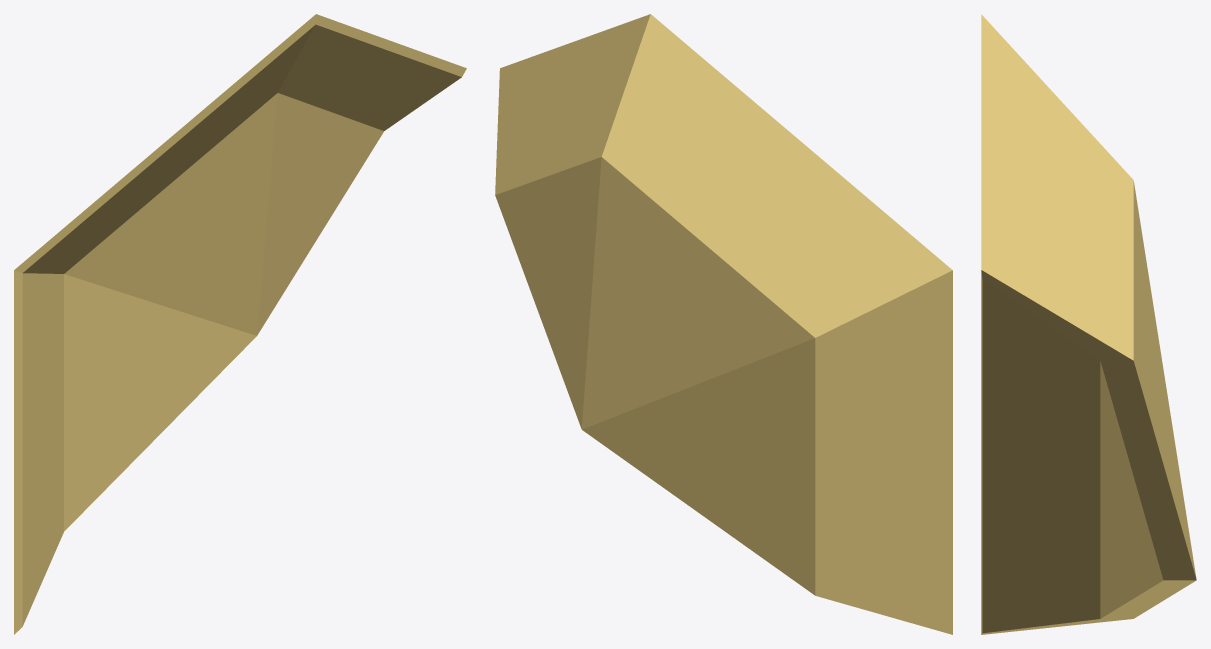
Rendered from Fragment012.fbx.
3 renders of one model, left to right at view 1: azimuth 30°, elevation 25°; view 2: azimuth 150°, elevation 25°; view 3: azimuth 270°, elevation 25°, orthographic. The views are drawn at different scales.
Parts seen in each view (by area): view 1: SatelliteFrag.012; view 2: SatelliteFrag.012; view 3: SatelliteFrag.012.
Boxes of the visible parts, box(x1,y1,x2,y2) form: SatelliteFrag.012: box(14, 14, 466, 634); SatelliteFrag.012: box(495, 14, 952, 634); SatelliteFrag.012: box(981, 14, 1196, 634).
Size of the model in its own units: 130 by 150 by 34.44.
